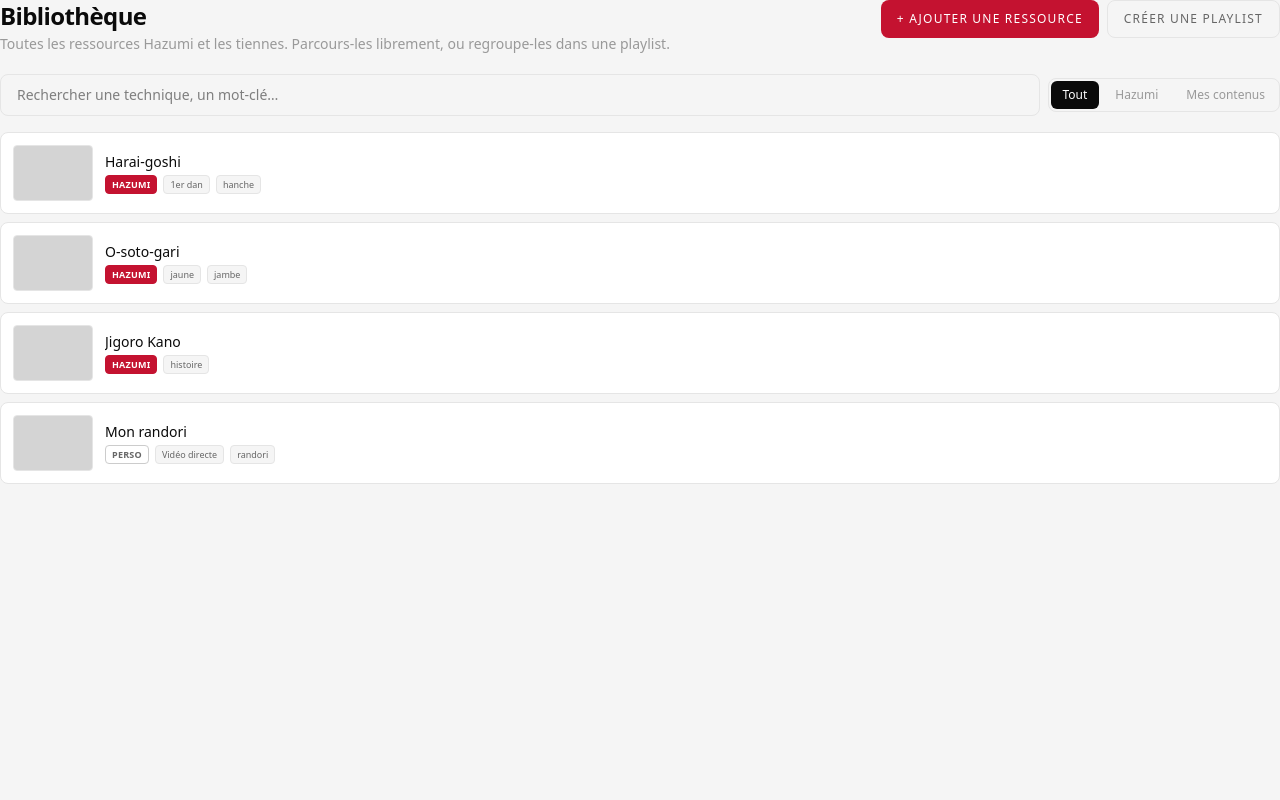
Test: Bibliothèque — création de playlist › ne propose plus de choix d’univers (kyu/shiai/judo-ka) à la création
The image size is (1280, 800).
Expected: the heading "Harai-goshi" is shown, [105,152,181,171]
Click the button "Créer une playlist".
click(1193, 19)  # box [1107,0,1279,38]
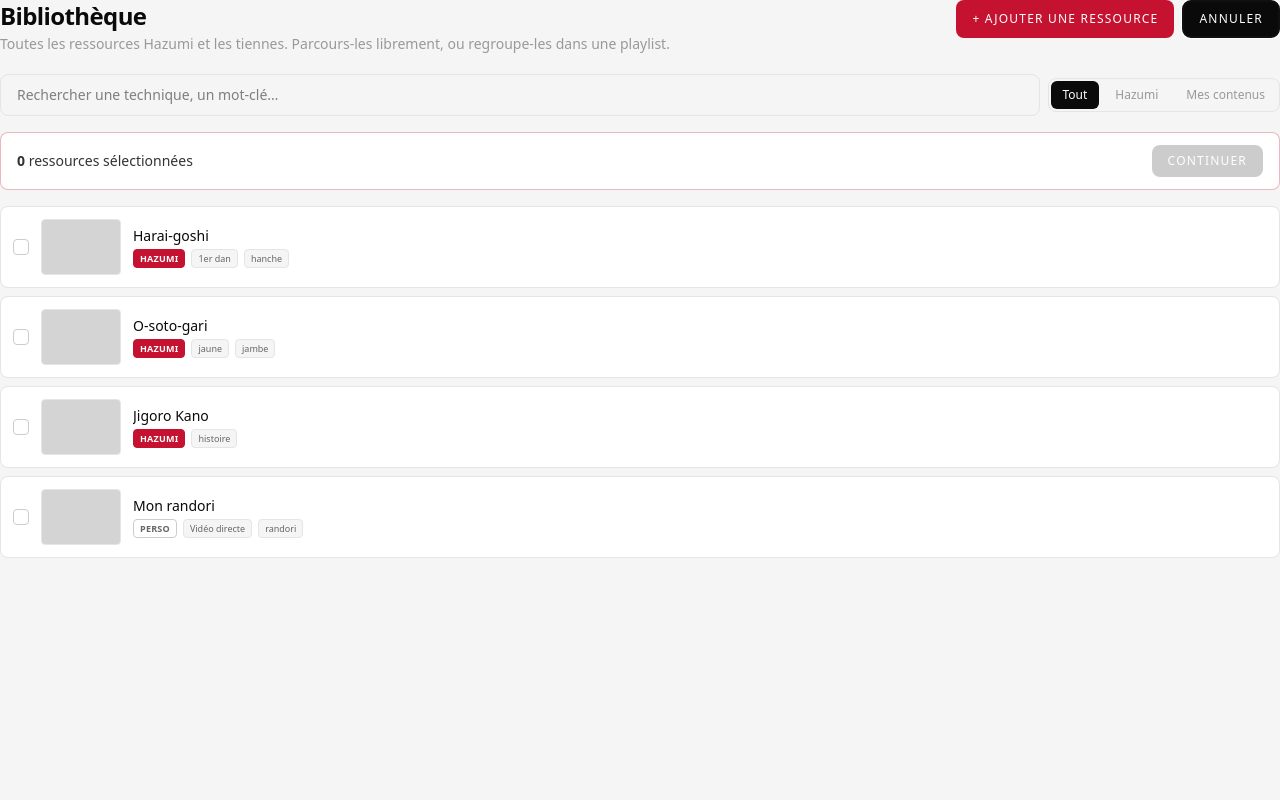
Click the heading "Harai-goshi".
click(171, 235)  # box [133,226,209,245]
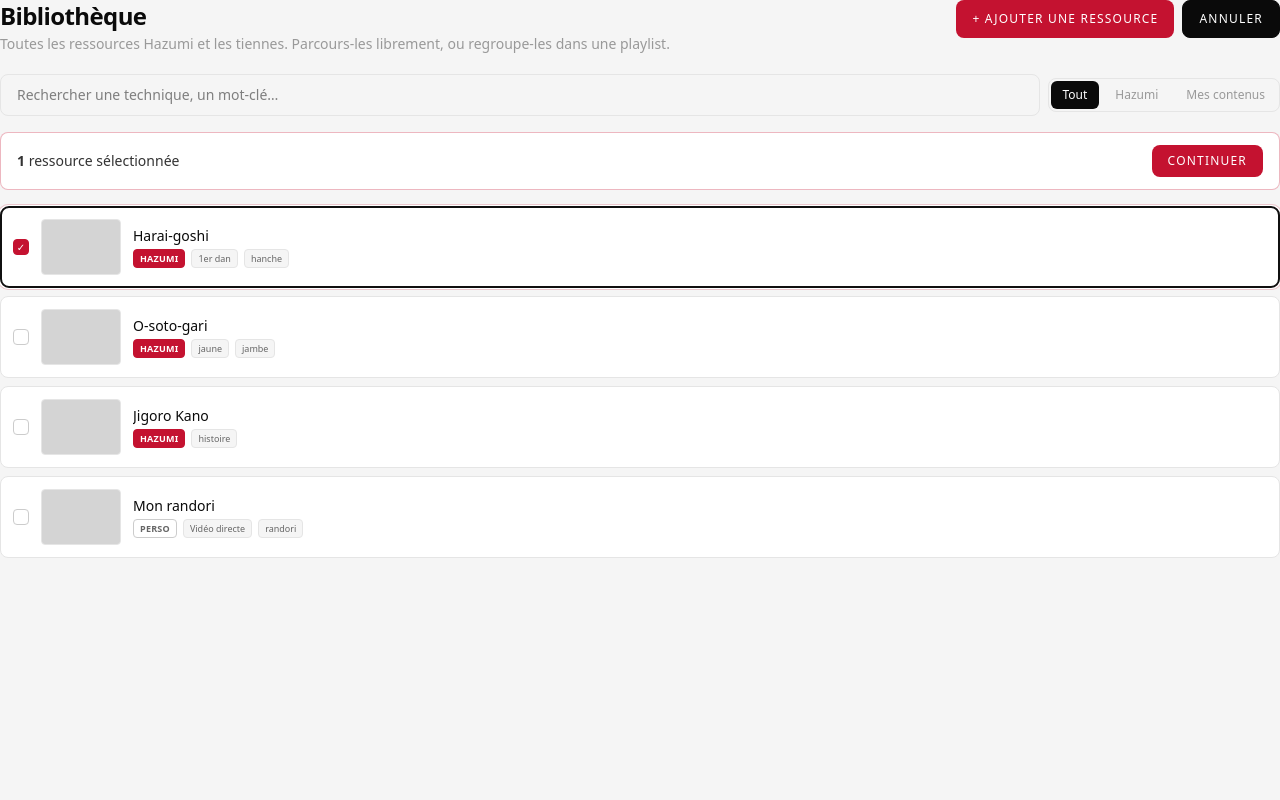
Click the button "Continuer".
click(1207, 161)  # box [1152,145,1263,177]
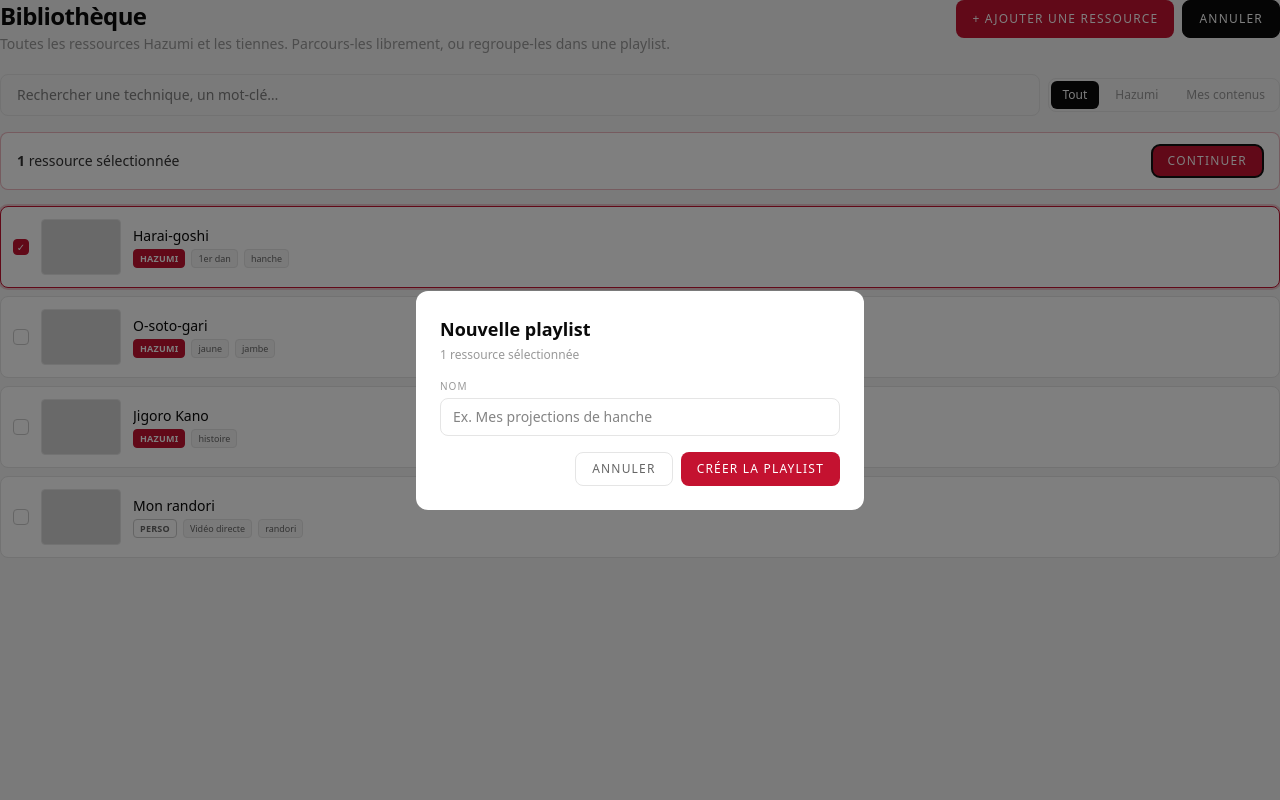
Expected: the heading "Nouvelle playlist" is shown, [440,316,590,340]
Expected: the field named "Nom de la playlist" is shown, [440,398,840,436]
